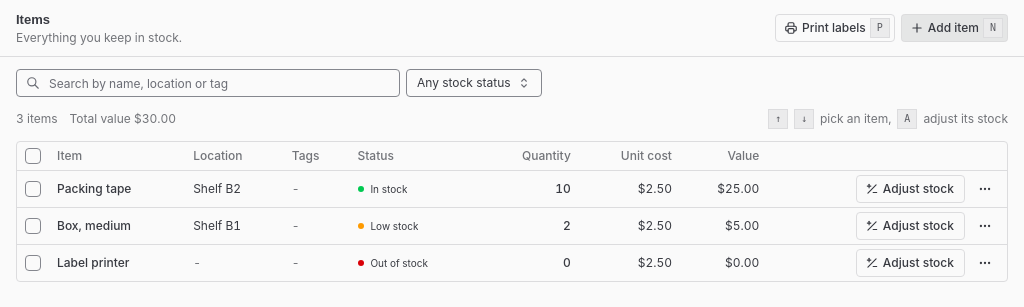
Test: ItemsPage › only acts on selected items that are still shown
The image size is (1024, 307).
Type keys "{Shift>}A{/Shift}"
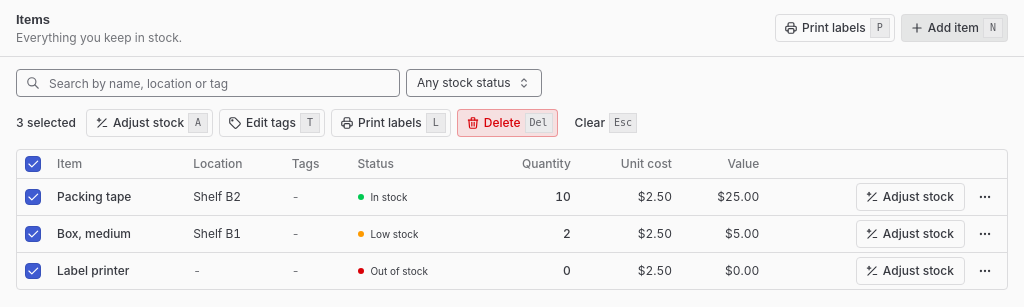
Expected: the text "3 selected" is shown, [16,115,76,131]
Type "tape" into the search field at coordinates (208, 83), box [16,69,400,97]
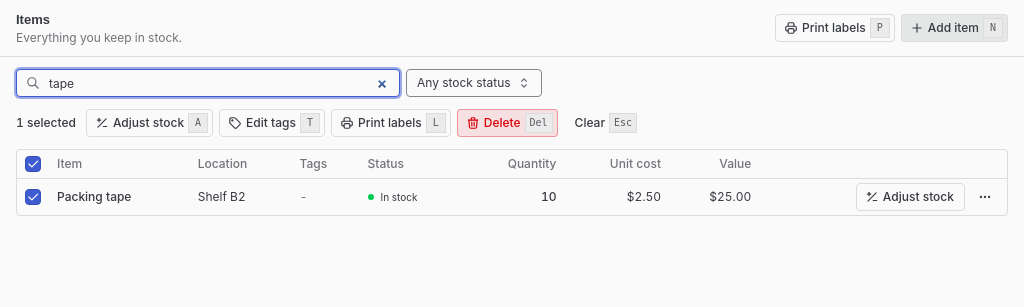
Expected: the text "1 selected" is shown, [16,115,76,131]
Press Escape
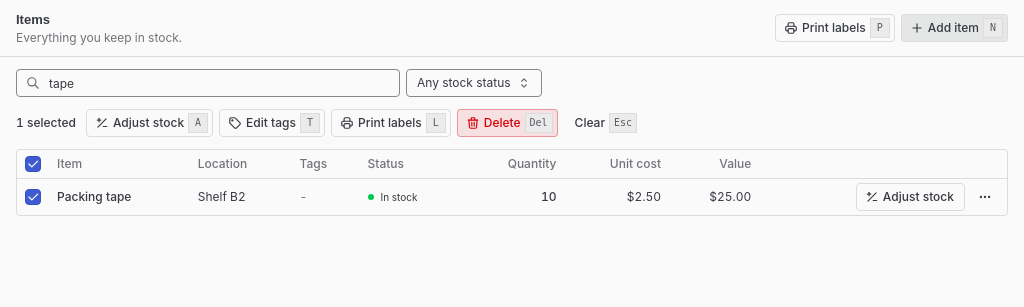
Press Escape
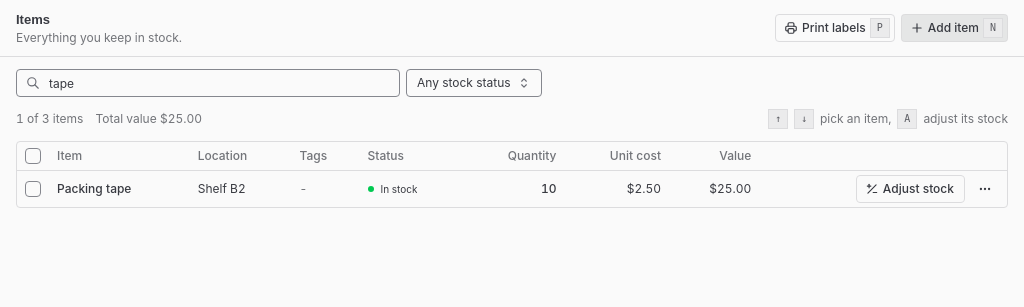
Expected: the text "selected" is gone
